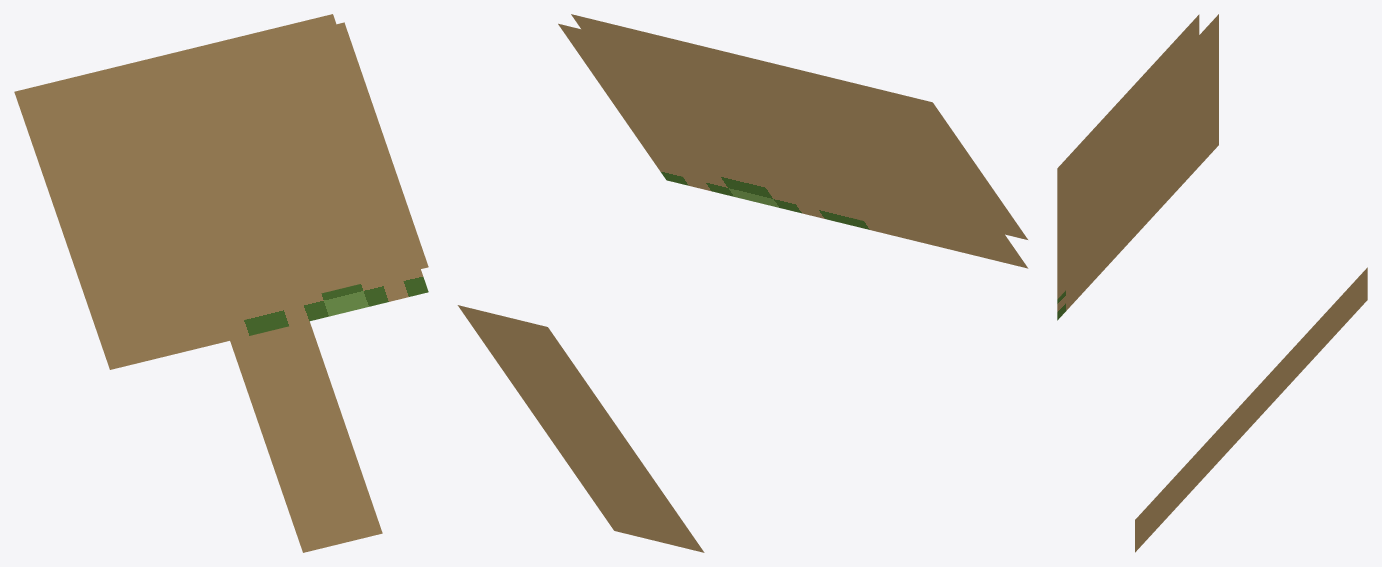
3 renders of one model, left to right at view 1: azimuth 30°, elevation 25°; view 2: azimuth 150°, elevation 25°; view 3: azimuth 270°, elevation 25°, orthographic. The views are drawn at different scales.
Bounding box in the file's own units: 1 × 1.45 × 1.
Materials: 1 (1 with a texture image).
